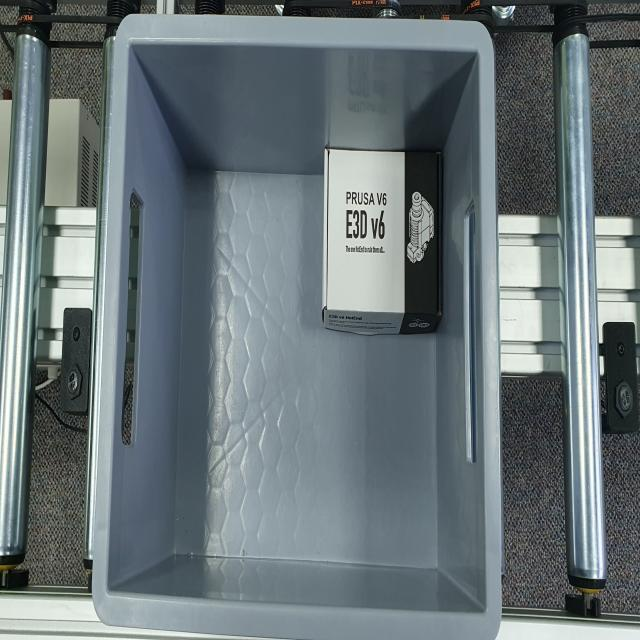box: (321, 146, 442, 334)
